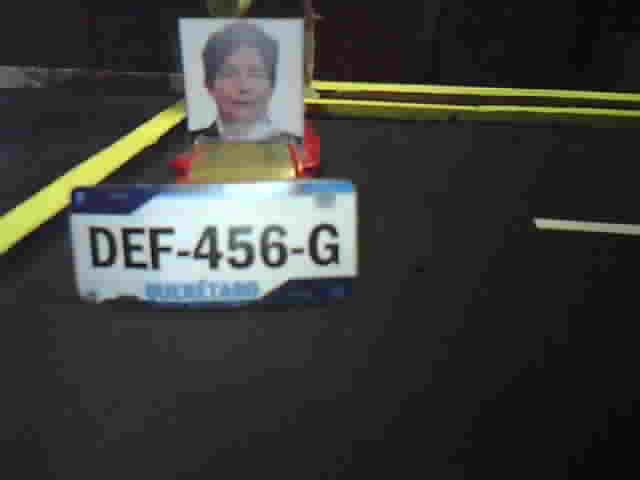PLACA: (67, 176, 361, 306)
ROSTRO: (187, 21, 303, 144)
